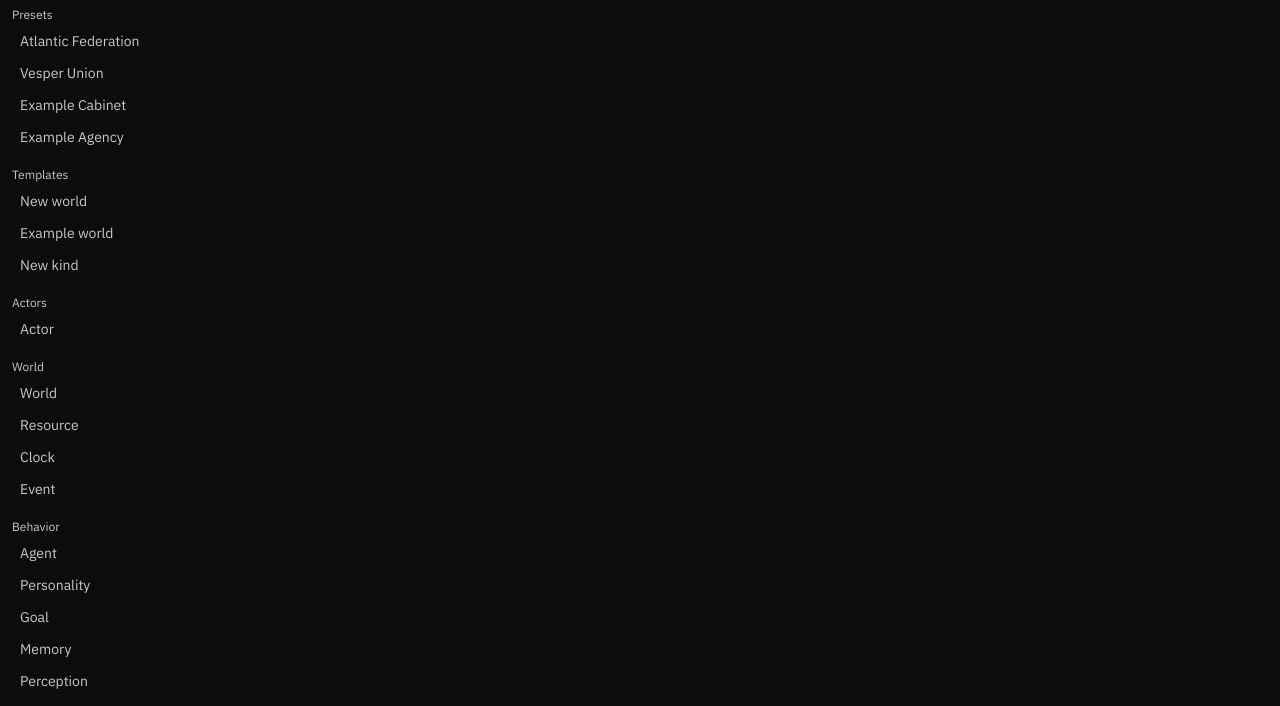
Test: Kind author form › cannot save a reserved id
Click the button "New kind": (49, 265) [12, 251, 1268, 279]
(page scrolled)
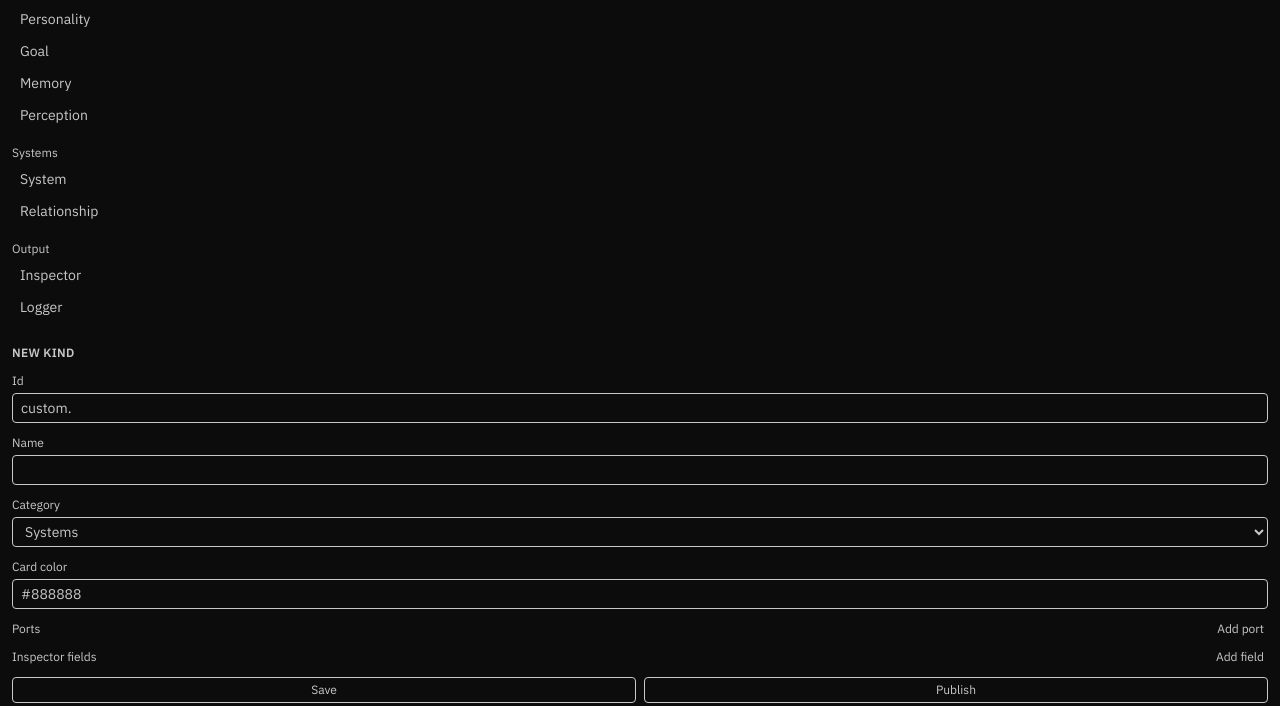
Replace the text in the field labelled "Id" with "entities.actor": (640, 408) [12, 393, 1268, 423]
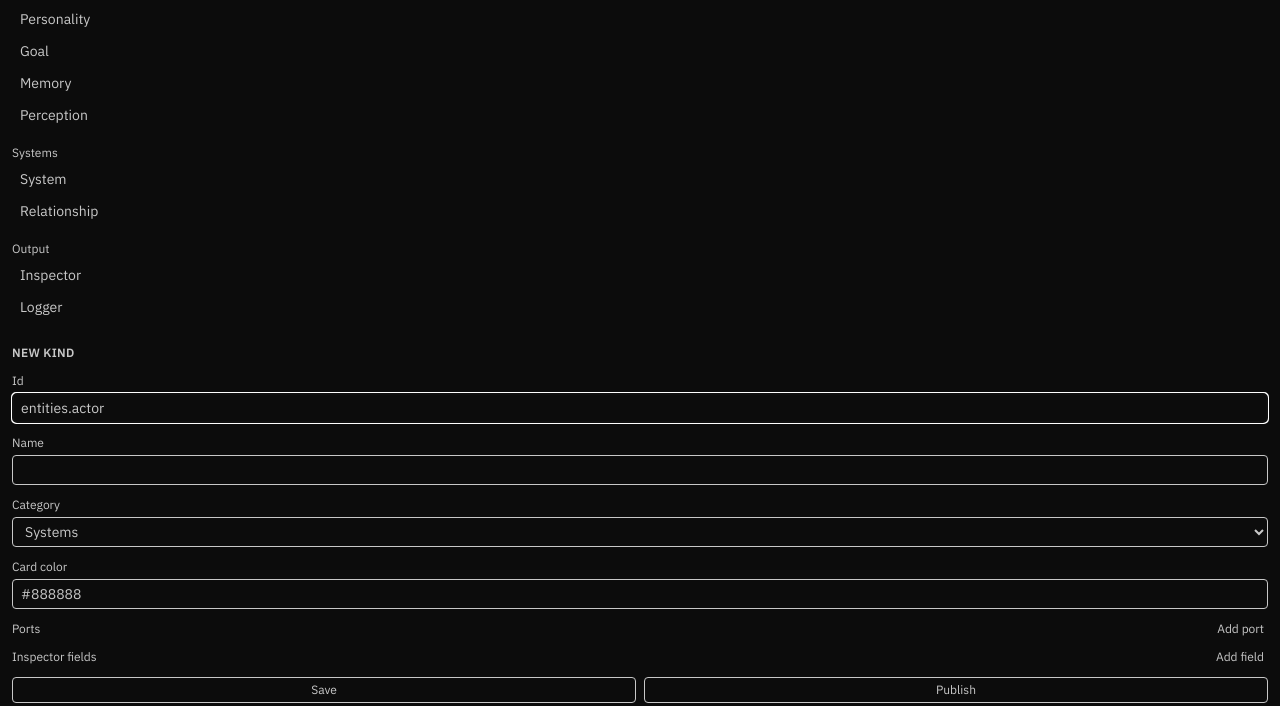
In the field labelled "Name": (640, 470) [12, 455, 1268, 485], type "Actor copy"
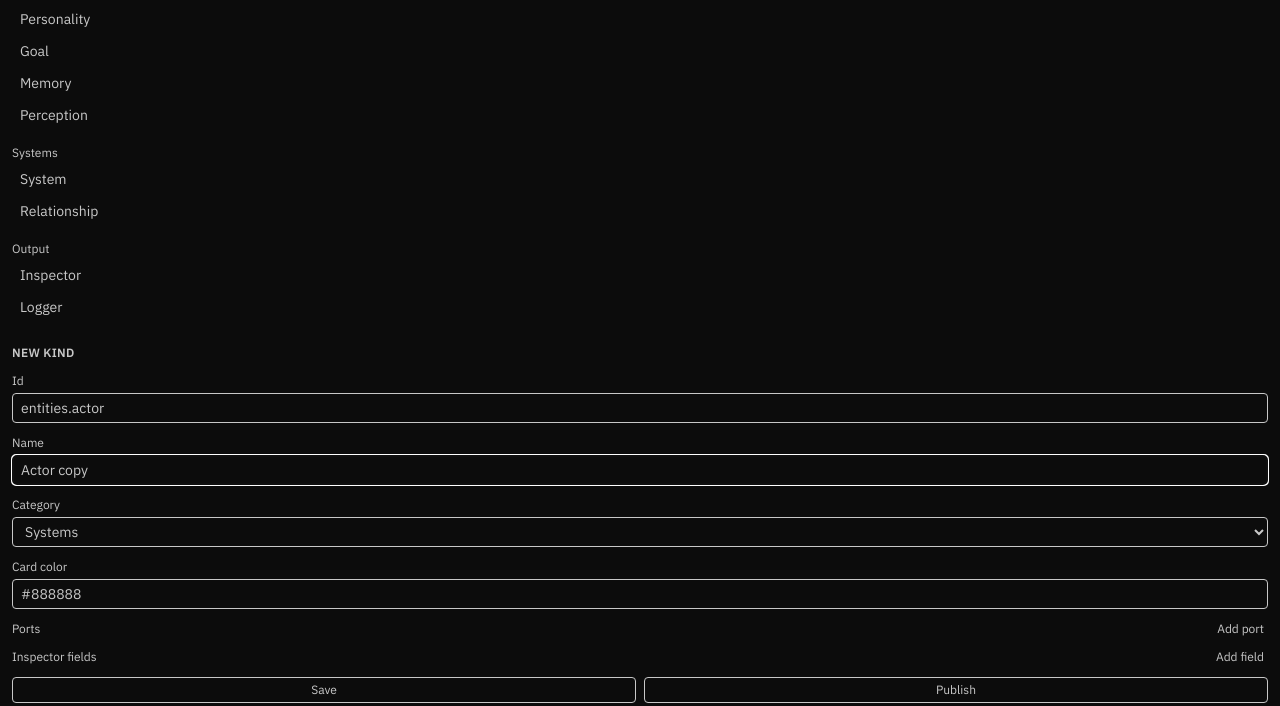
Click the button "Save": (324, 690) [12, 677, 636, 703]
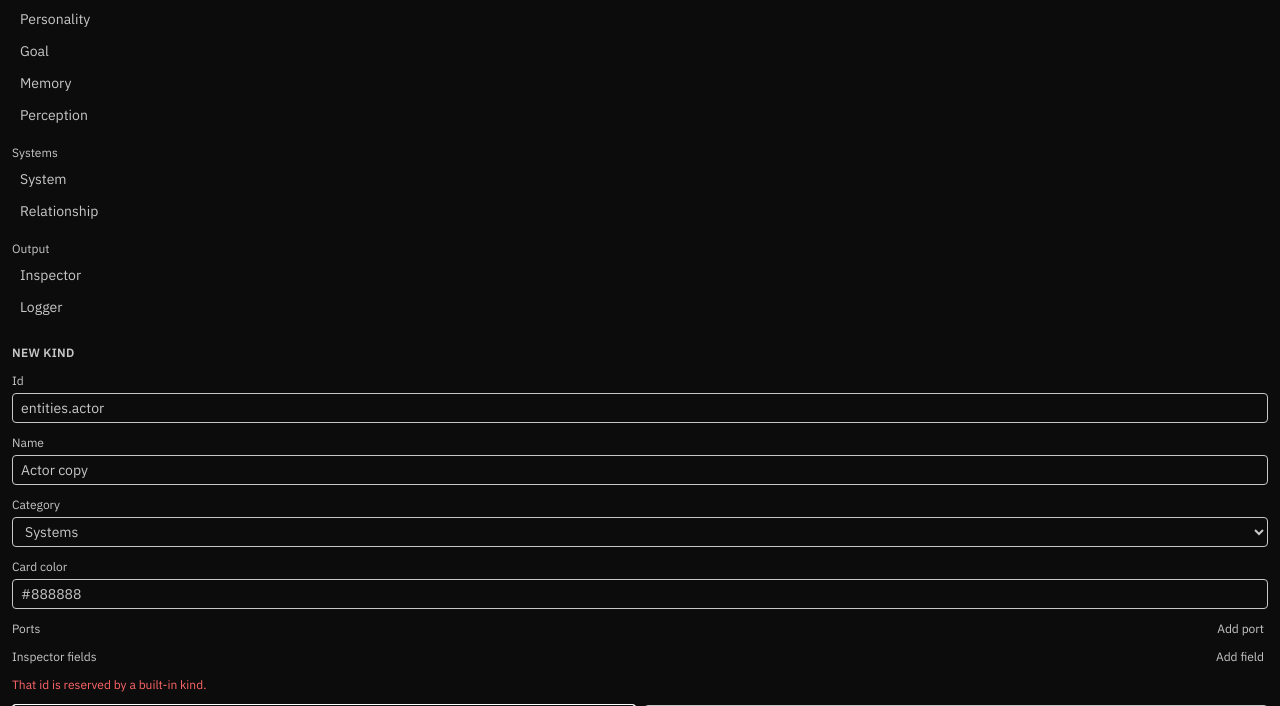
expect the text "That id is reserved by a built-in kind." is shown: met, box [12, 677, 206, 692]
